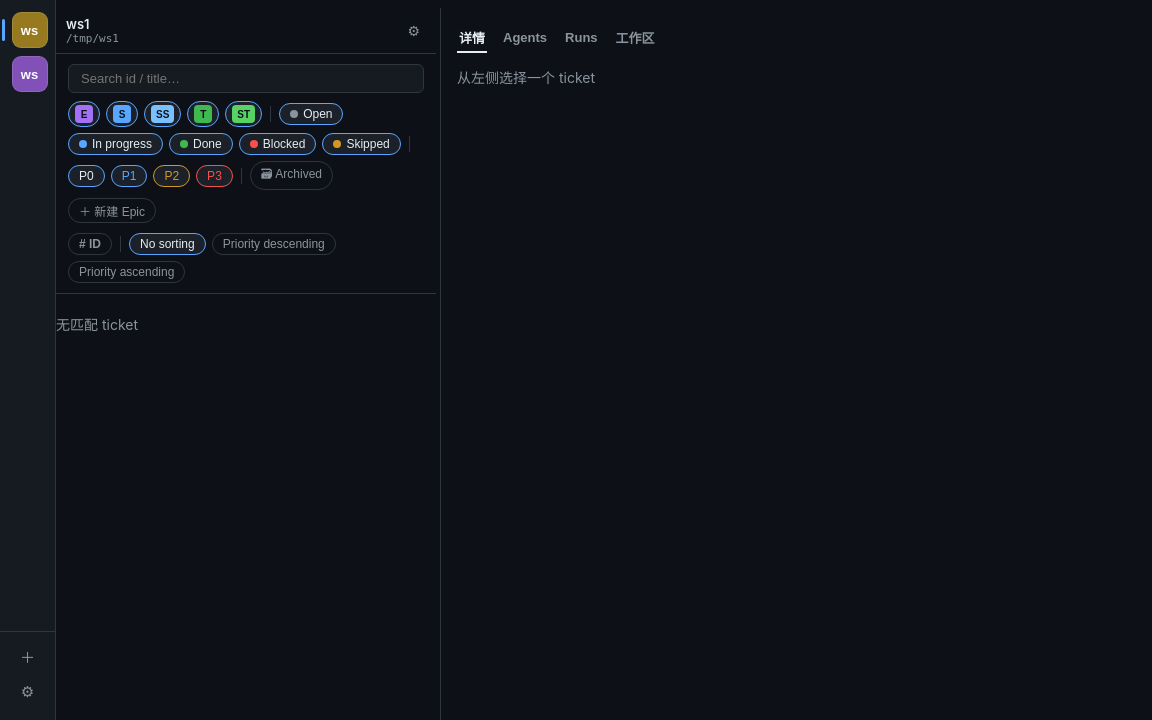
it: U2 右键菜单（R4） › 「在此工作区打开终端」（U8 之前）：切换到该工作区并跳 Agents 页
Right-click the 2nd button with class "rail-icon" at x=30, y=74, box [12,56,48,92]
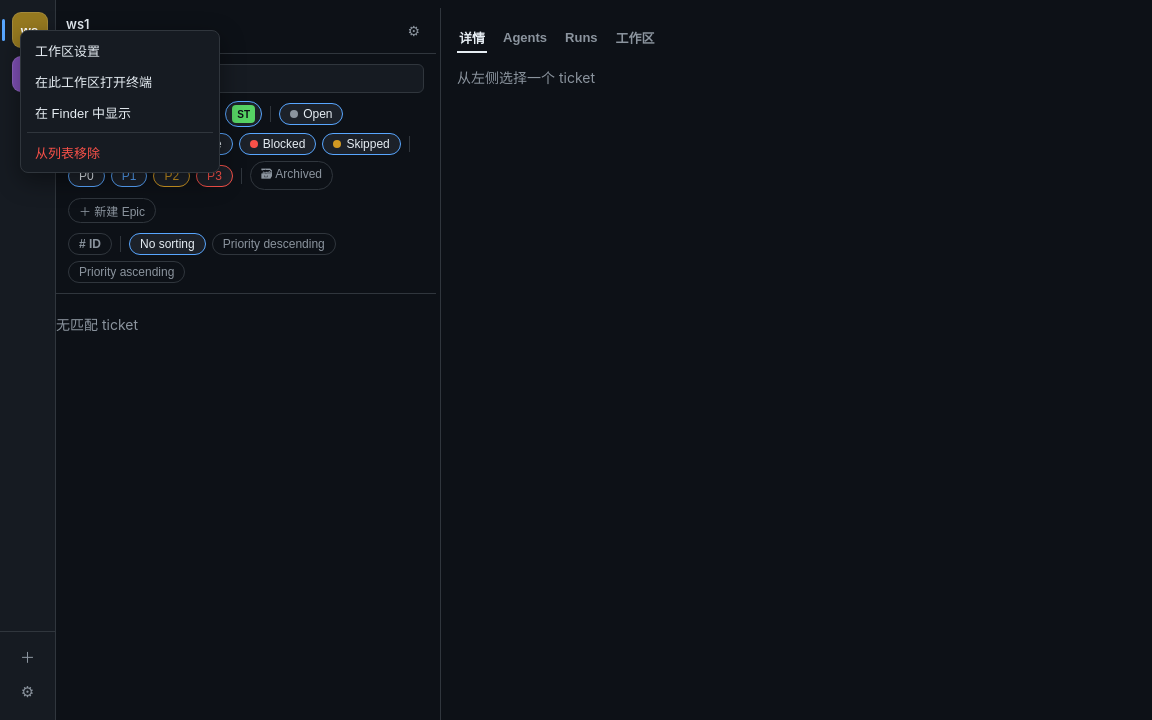
Check: the menu with class "ws-context-menu" is shown, box [20,30,220,173]
Click the menu item "在此工作区打开终端". click: x=120, y=82
box: [25,66,215,97]
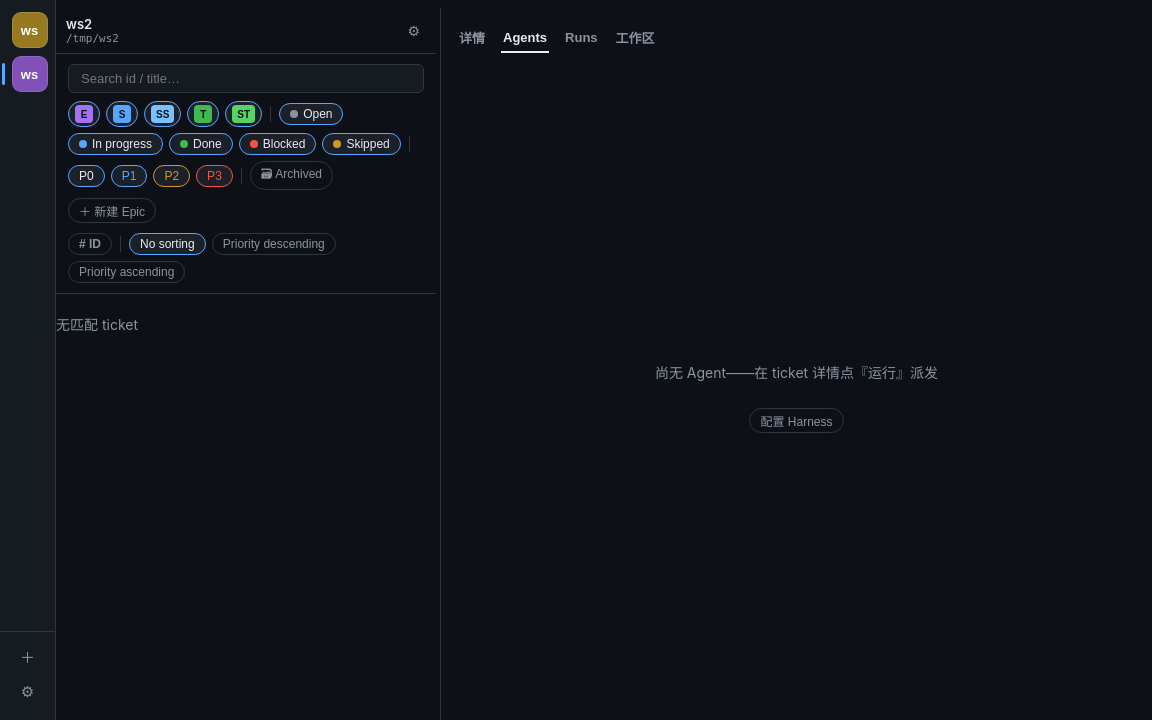
Check: the text with class "workspace-name" reads "ws2", box [66,16,92,32]
